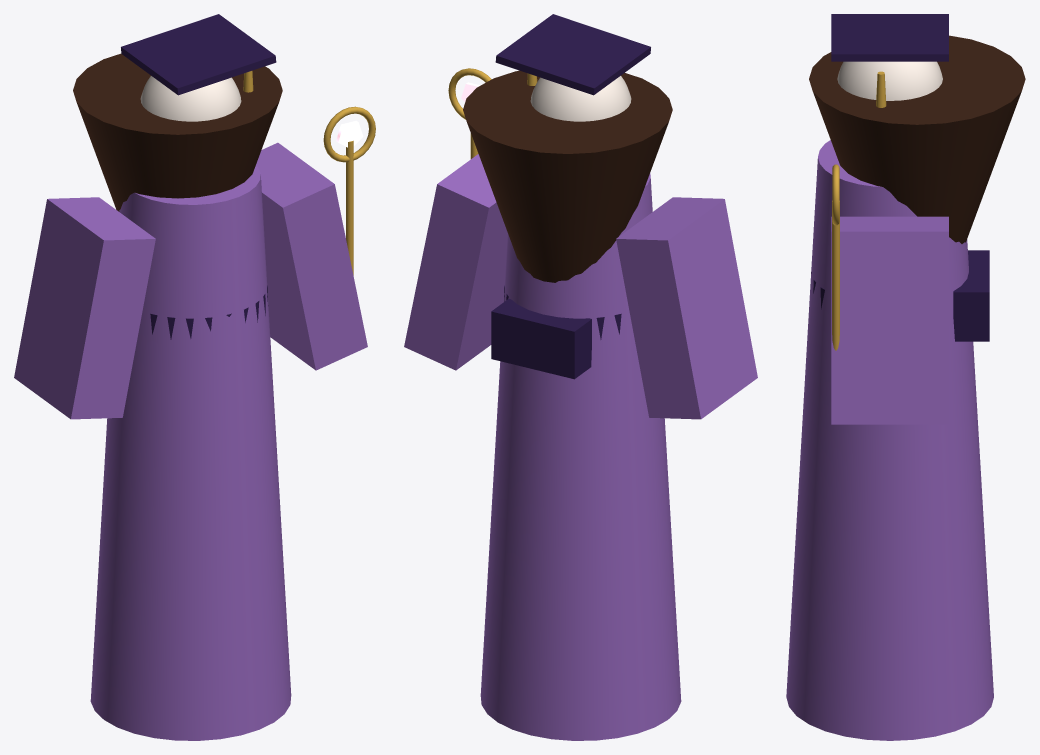
Rendered from hana-candidate-b.glb.
The picture shows the model from 3 angles, left to right: view 1: azimuth 30°, elevation 25°; view 2: azimuth 150°, elevation 25°; view 3: azimuth 270°, elevation 25°; orthographic projection. The views are drawn at different scales.
Visible parts, largest first — view 1: Hana_Kimono_Body, Hana_Sleeve_L, Hana_Hair_Wavy, Hana_Sleeve_R, Hana_Mortarboard_Cap, Hana_Head_Face, Hana_Wand_Ring, Hana_Wand_Shaft; view 2: Hana_Kimono_Body, Hana_Hair_Wavy, Hana_Sleeve_L, Hana_Sleeve_R, Hana_Mortarboard_Cap, Hana_Obi_Musubi_Bow, Hana_Head_Face, Hana_Wand_Ring; view 3: Hana_Kimono_Body, Hana_Sleeve_R, Hana_Hair_Wavy, Hana_Mortarboard_Cap, Hana_Head_Face, Hana_Obi_Musubi_Bow, Hana_Wand_Shaft, Hana_Wand_Ring.
Part boxes in pixels (left/top/right/bottom): Hana_Kimono_Body: left=90, top=165, right=291, bottom=740; Hana_Sleeve_L: left=14, top=197, right=155, bottom=419; Hana_Hair_Wavy: left=73, top=53, right=282, bottom=211; Hana_Sleeve_R: left=256, top=142, right=367, bottom=370; Hana_Mortarboard_Cap: left=121, top=14, right=276, bottom=95; Hana_Head_Face: left=140, top=76, right=241, bottom=121; Hana_Wand_Ring: left=323, top=106, right=375, bottom=162; Hana_Wand_Shaft: left=346, top=140, right=353, bottom=275; Hana_Kimono_Body: left=480, top=173, right=681, bottom=740; Hana_Hair_Wavy: left=463, top=70, right=672, bottom=282; Hana_Sleeve_L: left=616, top=197, right=757, bottom=419; Hana_Sleeve_R: left=404, top=154, right=507, bottom=370; Hana_Mortarboard_Cap: left=495, top=14, right=650, bottom=95; Hana_Obi_Musubi_Bow: left=491, top=299, right=591, bottom=379; Hana_Head_Face: left=530, top=76, right=631, bottom=121; Hana_Wand_Ring: left=448, top=68, right=491, bottom=119; Hana_Kimono_Body: left=786, top=140, right=993, bottom=740; Hana_Sleeve_R: left=831, top=216, right=948, bottom=424; Hana_Hair_Wavy: left=809, top=35, right=1025, bottom=243; Hana_Mortarboard_Cap: left=831, top=14, right=948, bottom=61; Hana_Head_Face: left=837, top=61, right=942, bottom=100; Hana_Obi_Musubi_Bow: left=953, top=250, right=989, bottom=341; Hana_Wand_Shaft: left=832, top=201, right=839, bottom=350; Hana_Wand_Ring: left=832, top=164, right=839, bottom=225.
Bounding box in the file's own units: 0.8103 × 1.64 × 0.53.
